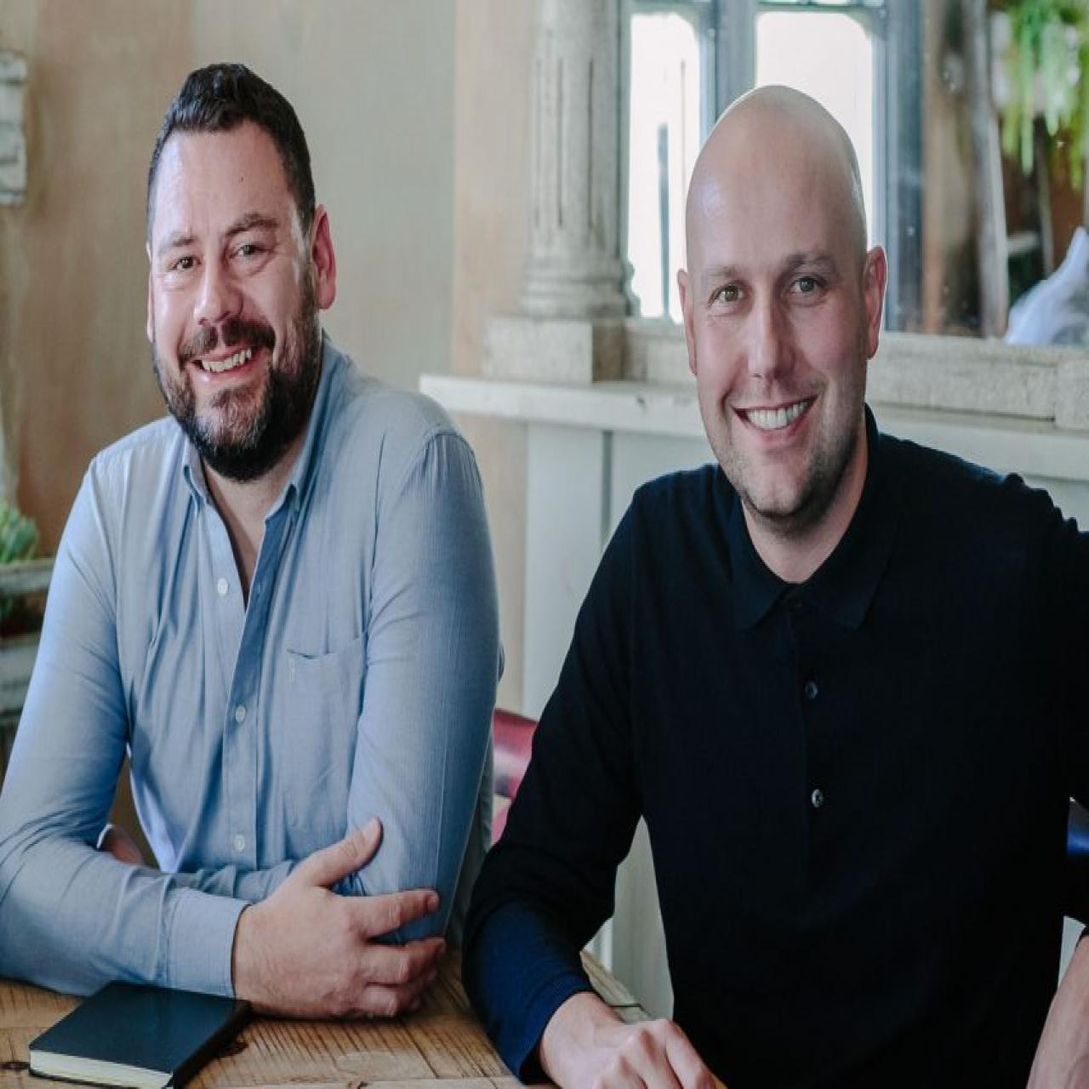NO_Safety_Vest: (641, 462, 1055, 1082), (90, 381, 429, 939)
Person: (493, 49, 1089, 1089), (0, 38, 502, 1042)
